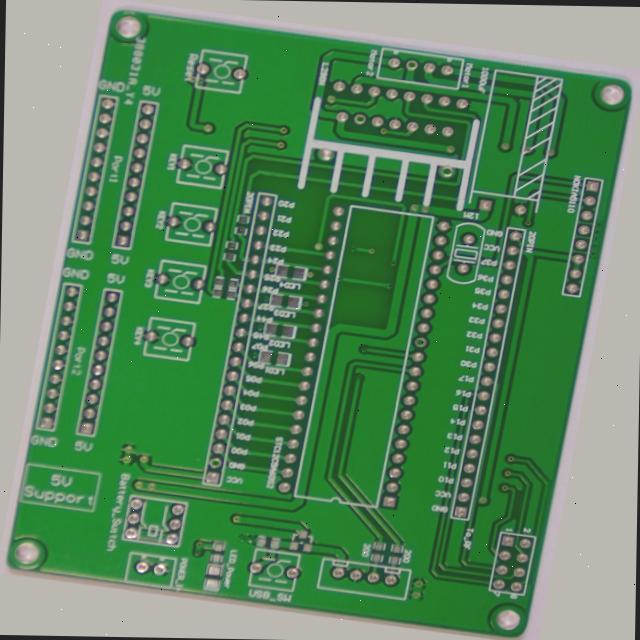missing_hole: (428, 322, 451, 340), (426, 134, 449, 150), (316, 87, 335, 104), (218, 480, 236, 496), (366, 22, 384, 36)
